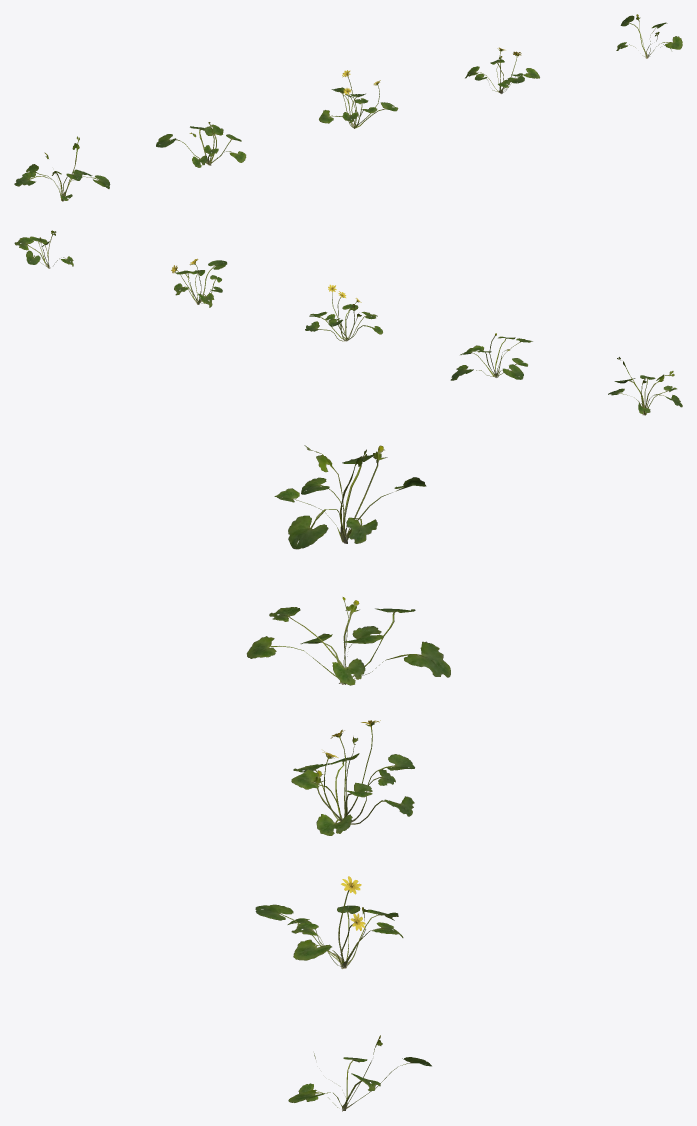
Rendered from celandine_01.light.glb.
3 views of the same model, one above another, from view 1: azimuth 30°, elevation 25°; view 2: azimuth 150°, elevation 25°; view 3: azimuth 270°, elevation 25° (orthographic). The views are drawn at different scales.
Parts seen in each view (by area): view 1: celandine_01_b_LOD0, celandine_01_c_LOD0, celandine_01_a_LOD0, celandine_01_d_LOD0, celandine_01_e_LOD0; view 2: celandine_01_c_LOD0, celandine_01_b_LOD0, celandine_01_d_LOD0, celandine_01_a_LOD0, celandine_01_e_LOD0; view 3: celandine_01_b_LOD0, celandine_01_a_LOD0, celandine_01_c_LOD0, celandine_01_d_LOD0, celandine_01_e_LOD0.
Part boxes in pixels (x1,y1,x2,y2): celandine_01_b_LOD0: [156, 122, 246, 167]; celandine_01_c_LOD0: [319, 70, 398, 128]; celandine_01_a_LOD0: [14, 136, 110, 201]; celandine_01_d_LOD0: [465, 47, 539, 93]; celandine_01_e_LOD0: [616, 14, 682, 58]; celandine_01_c_LOD0: [305, 284, 382, 341]; celandine_01_b_LOD0: [450, 333, 532, 380]; celandine_01_d_LOD0: [171, 258, 227, 307]; celandine_01_a_LOD0: [608, 357, 682, 415]; celandine_01_e_LOD0: [14, 230, 73, 268]; celandine_01_b_LOD0: [246, 597, 450, 685]; celandine_01_a_LOD0: [274, 445, 426, 549]; celandine_01_c_LOD0: [291, 720, 414, 835]; celandine_01_d_LOD0: [255, 876, 403, 968]; celandine_01_e_LOD0: [288, 1035, 431, 1111].
Size of the model in its own units: 2 by 0.166 by 0.2739.
1 material, 1 textured.
